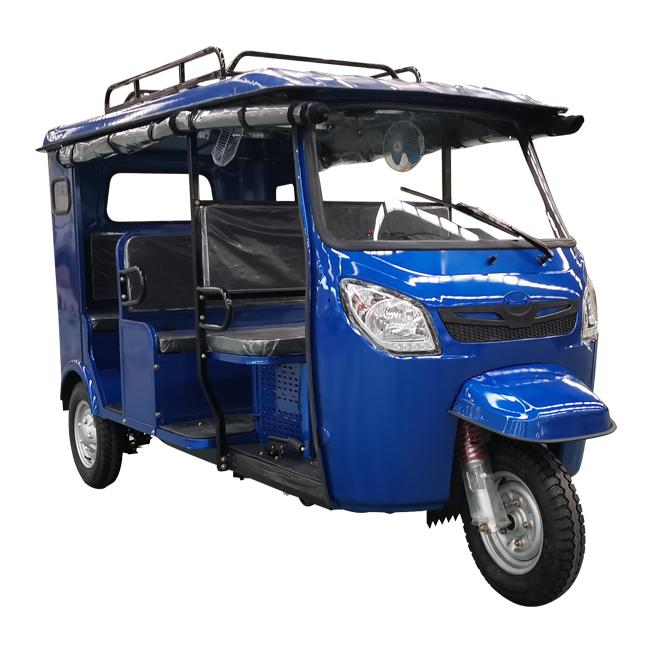threewheel: (34, 67, 617, 606)
